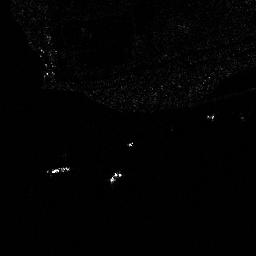ship: (45, 166, 70, 175)
